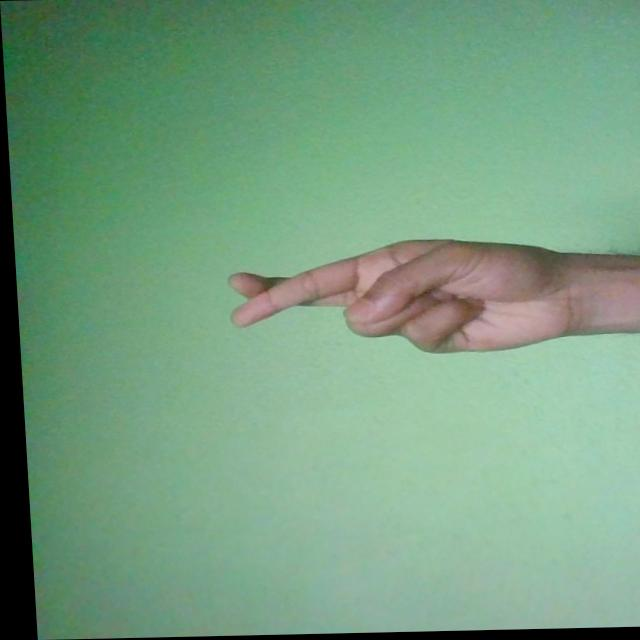Good Luck: (221, 238, 578, 360)
